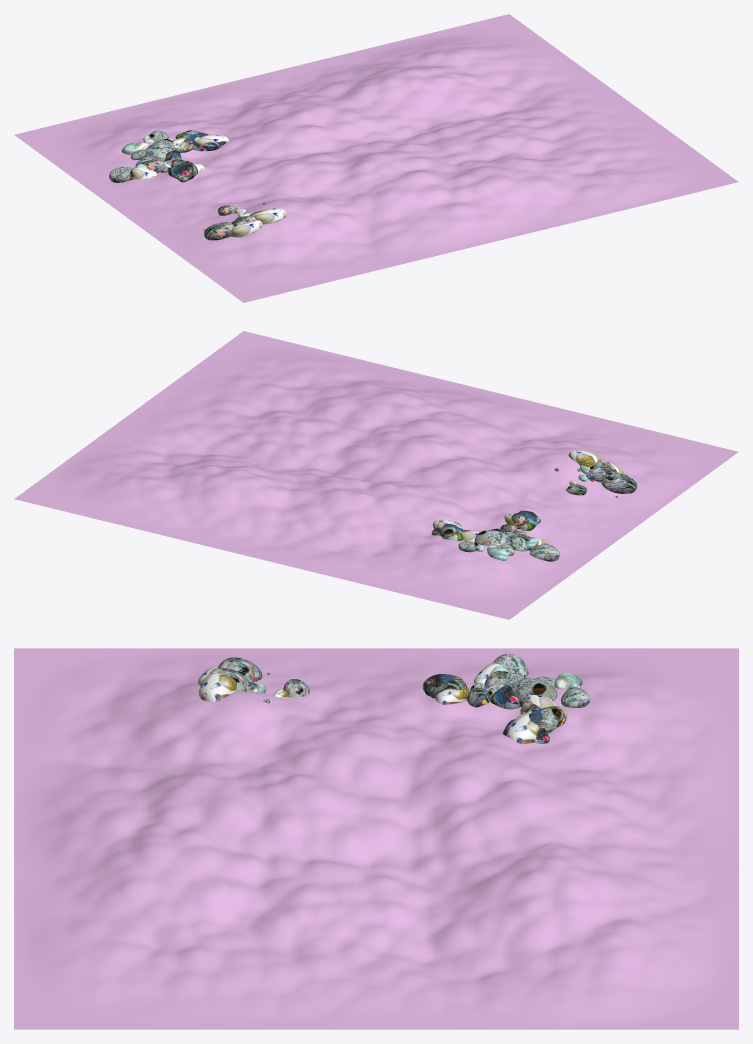
File: Landscape.fbx
3 renders of one model, top to bottom at view 1: azimuth 30°, elevation 25°; view 2: azimuth 150°, elevation 25°; view 3: azimuth 270°, elevation 25°, orthographic. The views are drawn at different scales.
Visible parts, largest first — view 1: Landscape; view 2: Landscape, Landscape|Sphere.006|Dupli|5; view 3: Landscape, Landscape|Sphere.005|Dupli|46, Landscape|Sphere.002|Dupli|44, Landscape|Sphere.005|Dupli|58.
Boxes of the visible parts, <box> form: Landscape: <box>14,14,738,302</box>; Landscape: <box>14,331,738,619</box>; Landscape|Sphere.006|Dupli|5: <box>601,472,637,493</box>; Landscape: <box>14,648,738,1029</box>; Landscape|Sphere.005|Dupli|46: <box>199,673,236,701</box>; Landscape|Sphere.002|Dupli|44: <box>509,678,557,706</box>; Landscape|Sphere.005|Dupli|58: <box>509,713,540,744</box>.
Size of the model in its own units: 3310 by 209 by 2659.
